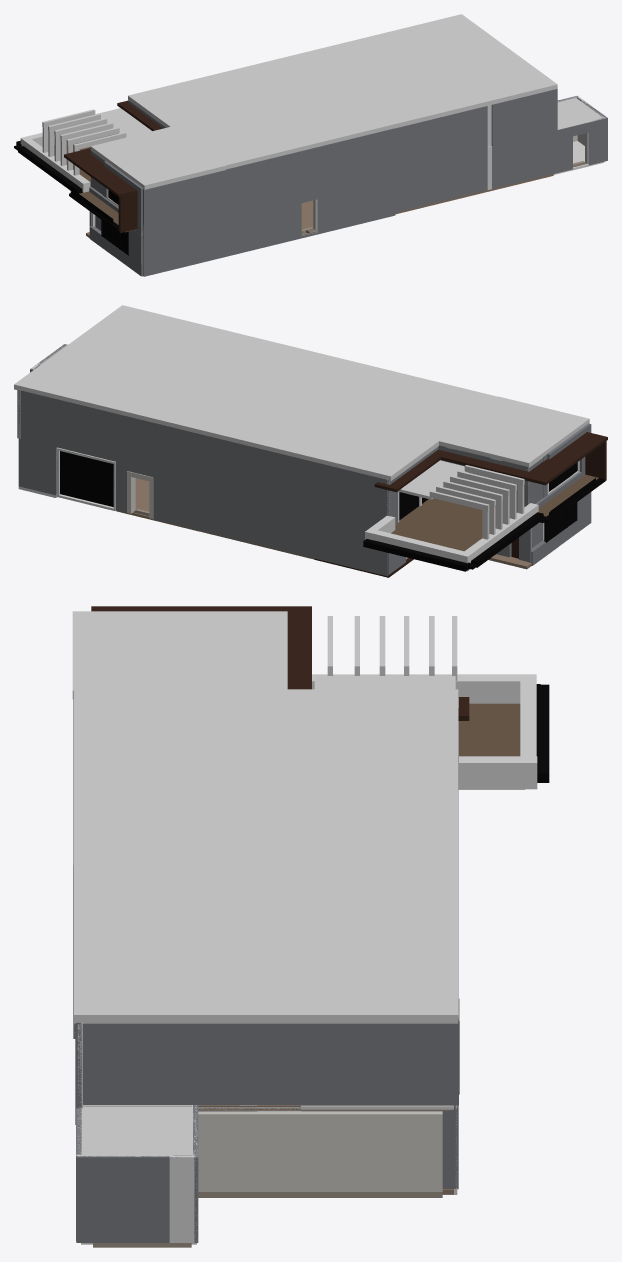
File: modern-house.access-v14.lod0.glb
3 views of the same model, one above another, from view 1: azimuth 30°, elevation 25°; view 2: azimuth 150°, elevation 25°; view 3: azimuth 270°, elevation 25° (orthographic). The views are drawn at different scales.
Visible parts, largest first — view 1: Object_2; view 2: Object_2; view 3: Object_2.
Boxes of the visible parts, left/top/right/bottom form: Object_2: left=14, top=14, right=607, bottom=276; Object_2: left=14, top=305, right=607, bottom=577; Object_2: left=72, top=606, right=549, bottom=1247.
Size of the model in its own units: 35.73 by 6.46 by 15.19.
